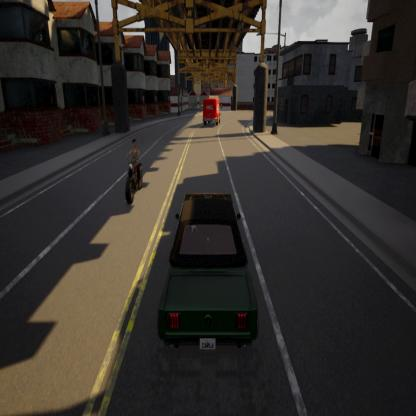Cars: (159, 196, 257, 356), (124, 139, 146, 208), (203, 96, 221, 125)
